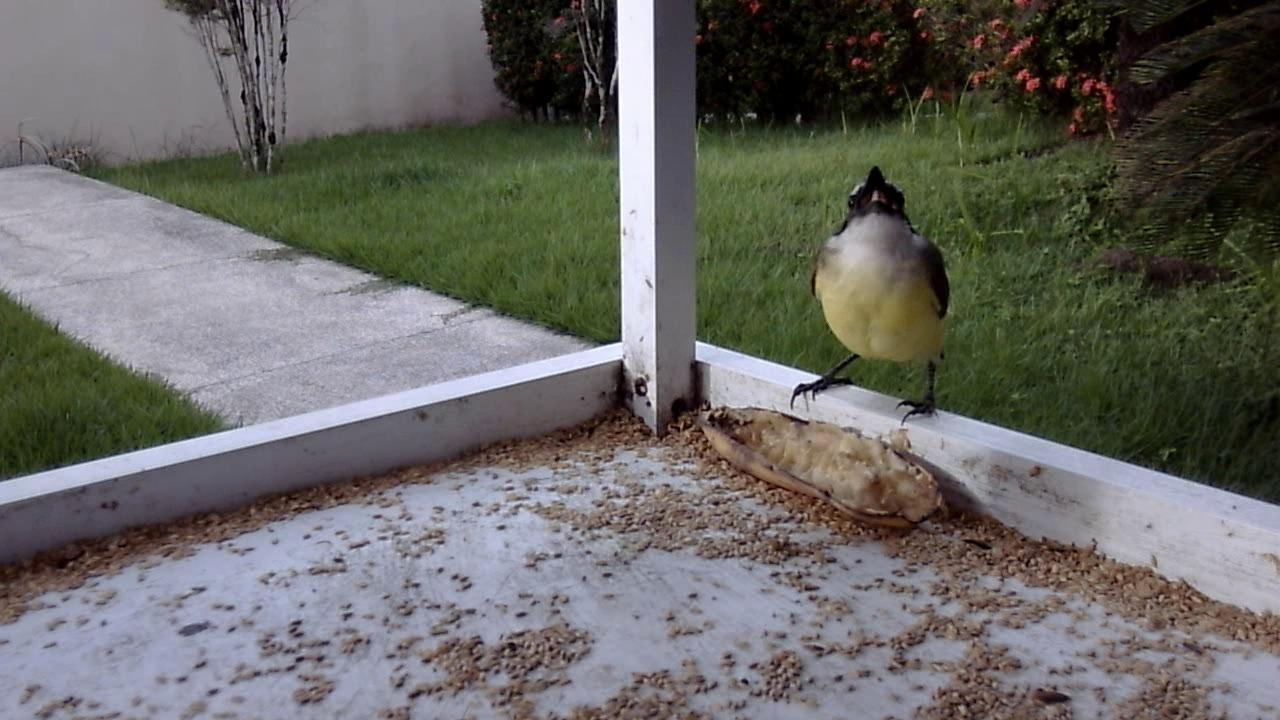bem_te_vi: (785, 167, 955, 432)
